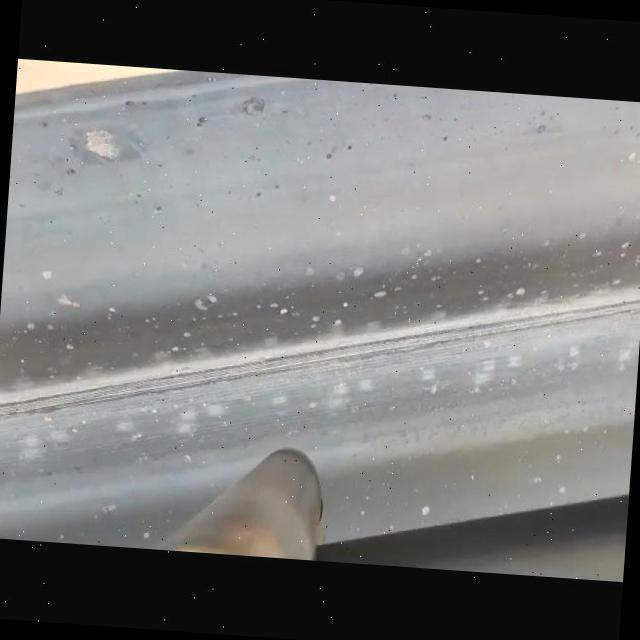Wear: (0, 296, 640, 421)
